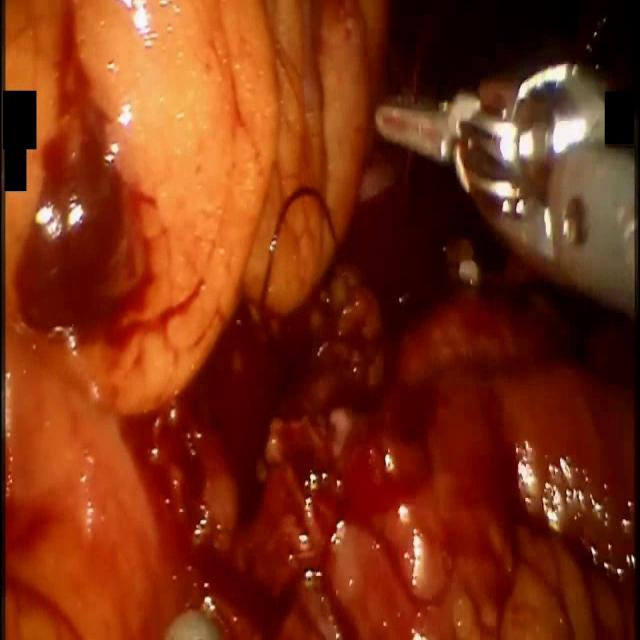surgical-area: (0, 2, 640, 639)
surgical-tool: (374, 54, 638, 327)
